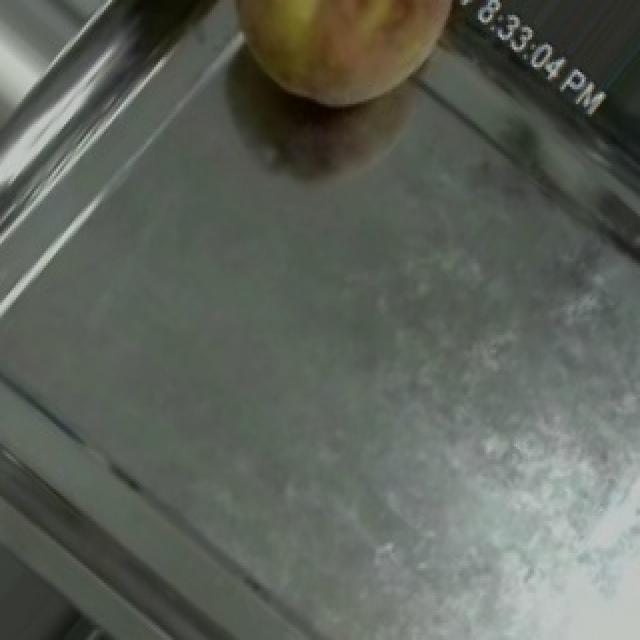Fruit: (200, 0, 482, 141)
